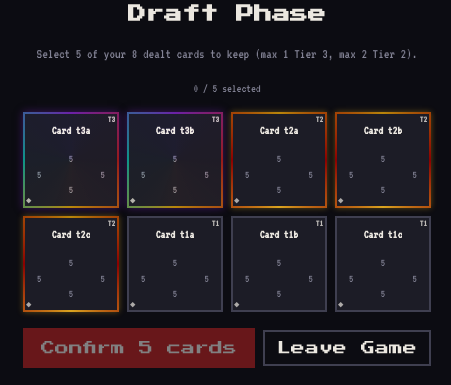
Test: DraftingGameView › disables remaining T3 cards after selecting 1 T3
// First card is t3a (T3), select it
Click the list item "Card t3a 5 5 5 5 ◆ T3" at (71, 160), box [23,112,119,208]
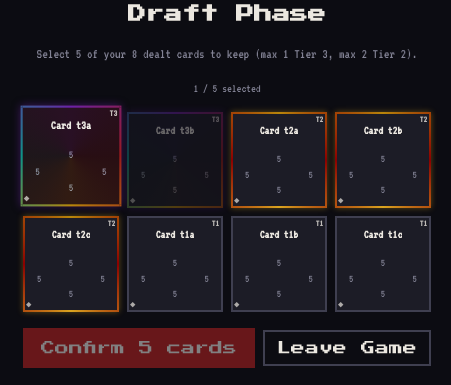
expect the list item "Card t3b 5 5 5 5 ◆ T3" is disabled: met, box [127,112,223,208]
